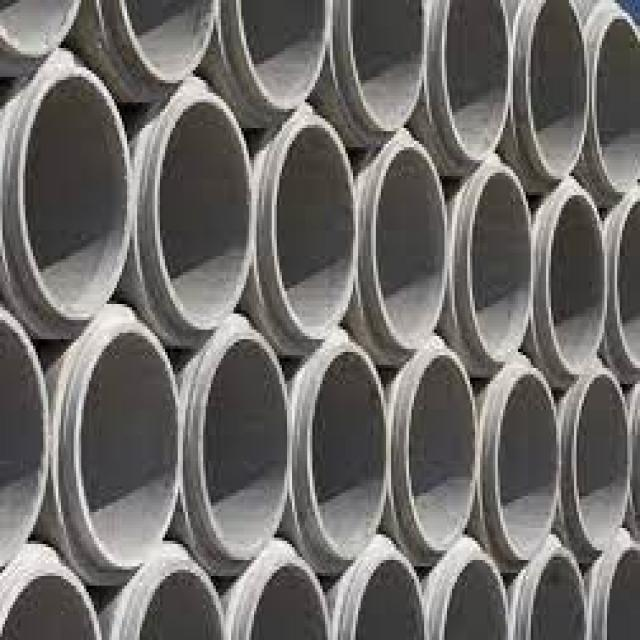pipe: (177, 316, 288, 576), (283, 332, 386, 576), (24, 76, 126, 320), (80, 334, 176, 568), (159, 103, 249, 327), (277, 127, 353, 338), (482, 365, 559, 564), (377, 150, 445, 348), (409, 358, 476, 554), (473, 174, 531, 356), (533, 0, 587, 178), (551, 197, 604, 366), (578, 376, 629, 550)
